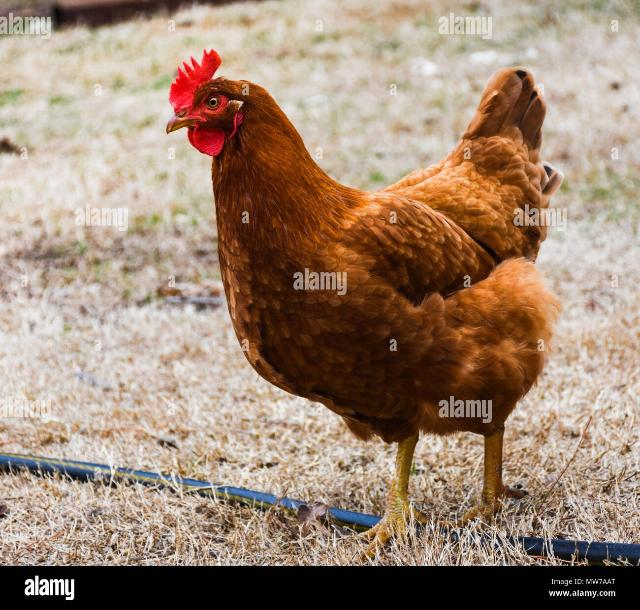Chicken: (166, 49, 562, 553)
